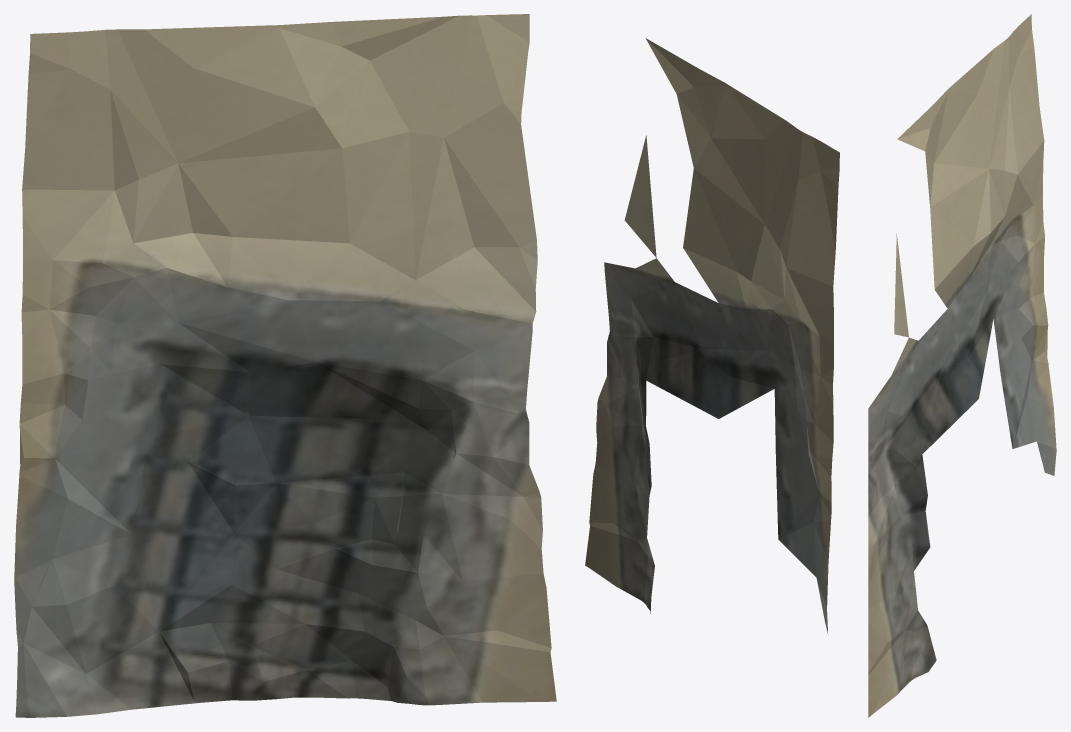
3 renders of one model, left to right at view 1: azimuth 30°, elevation 25°; view 2: azimuth 150°, elevation 25°; view 3: azimuth 270°, elevation 25°, orthographic. The views are drawn at different scales.
Bounding box in the file's own units: 1.07 × 1.67 × 0.5267.
2 materials, 2 textured.
